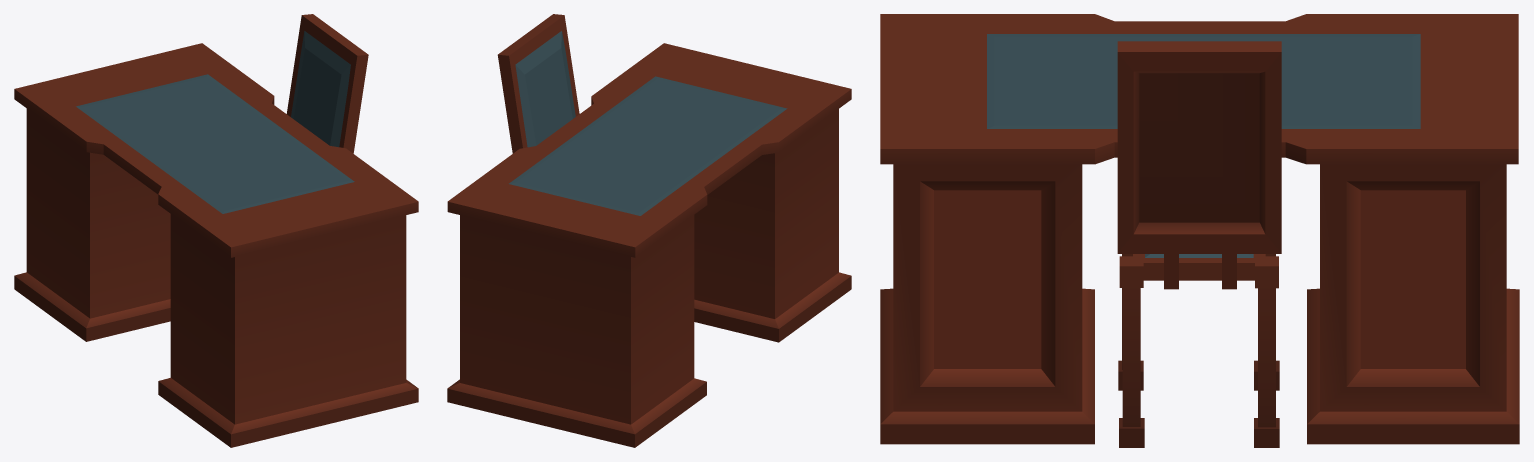
The model's file is deskfull.glb.
3 renders of one model, left to right at view 1: azimuth 30°, elevation 25°; view 2: azimuth 150°, elevation 25°; view 3: azimuth 270°, elevation 25°, orthographic. The views are drawn at different scales.
Parts seen in each view (by area): view 1: Cube.006; view 2: Cube.006; view 3: Cube.006.
Boxes of the visible parts, box(x1,y1,x2,y2) form: Cube.006: box(14, 14, 418, 447); Cube.006: box(447, 14, 851, 447); Cube.006: box(880, 14, 1519, 447).
Size of the model in its own units: 1.14 by 1.42 by 1.97.
